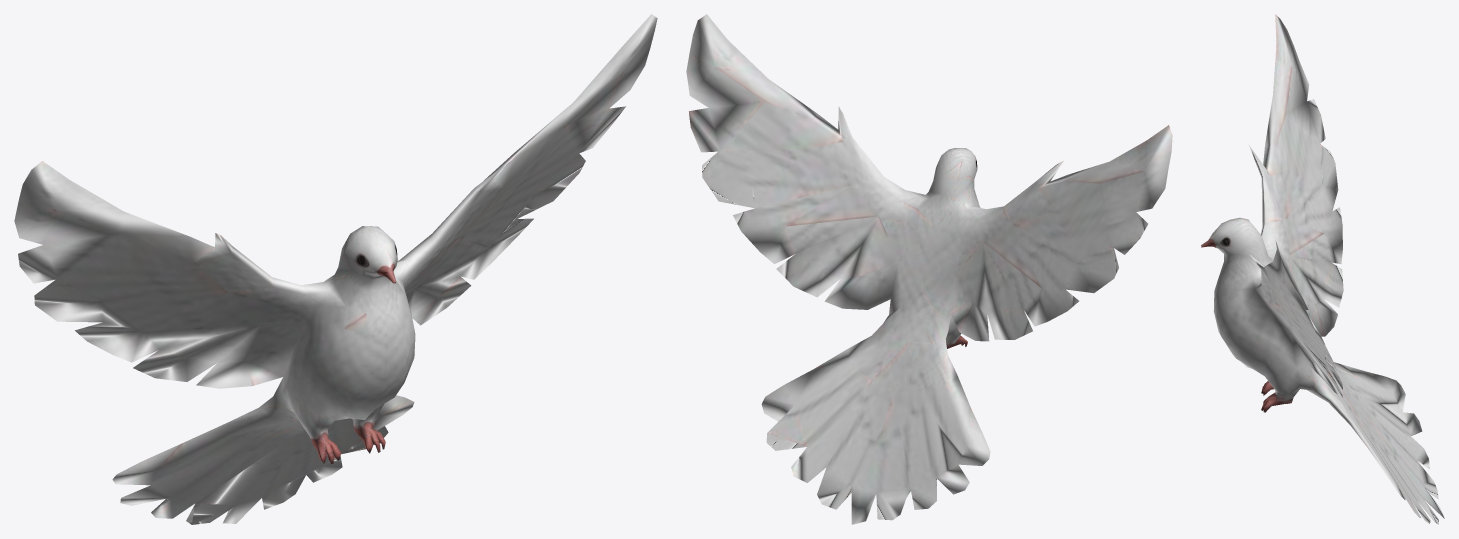
Rendered from prop_dove.glb.
3 views of the same model, side by side, from view 1: azimuth 30°, elevation 25°; view 2: azimuth 150°, elevation 25°; view 3: azimuth 270°, elevation 25° (orthographic). The views are drawn at different scales.
Size of the model in its own units: 1 by 0.7867 by 0.4427.
1 material, 1 textured.
